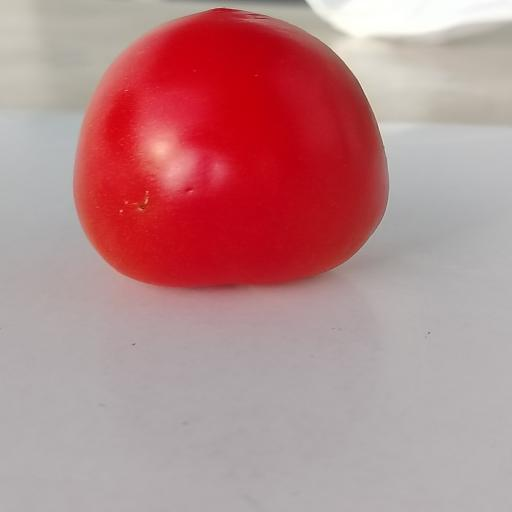ripe: (74, 9, 388, 286)
